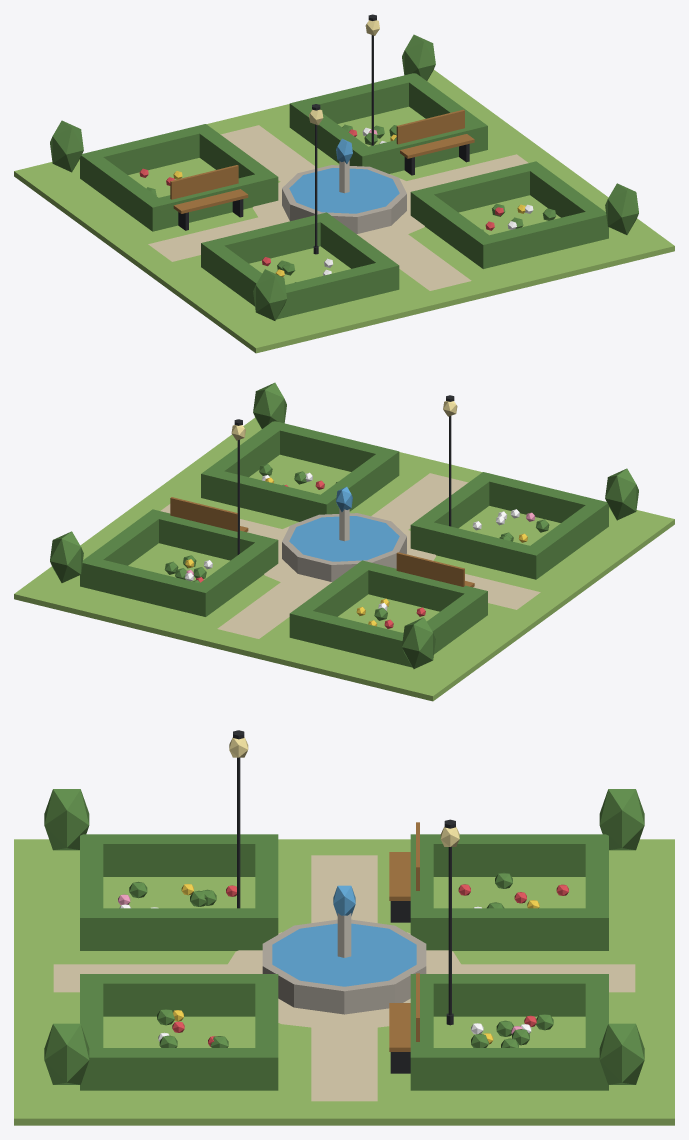
The model's file is Park_cim_duzenli_Hafif.fbx.
The picture shows the model from 3 angles, top to bottom: view 1: azimuth 30°, elevation 25°; view 2: azimuth 150°, elevation 25°; view 3: azimuth 270°, elevation 25°; orthographic projection. The views are drawn at different scales.
Parts seen in each view (by area): view 1: Park_cim_duzenli_Hafif; view 2: Park_cim_duzenli_Hafif; view 3: Park_cim_duzenli_Hafif.
Part boxes in pixels (box(x1,y1,x2,y2)): Park_cim_duzenli_Hafif: box(14, 14, 674, 353); Park_cim_duzenli_Hafif: box(14, 382, 674, 701); Park_cim_duzenli_Hafif: box(14, 730, 674, 1125).
Size of the model in its own units: 10 by 3.48 by 10.
